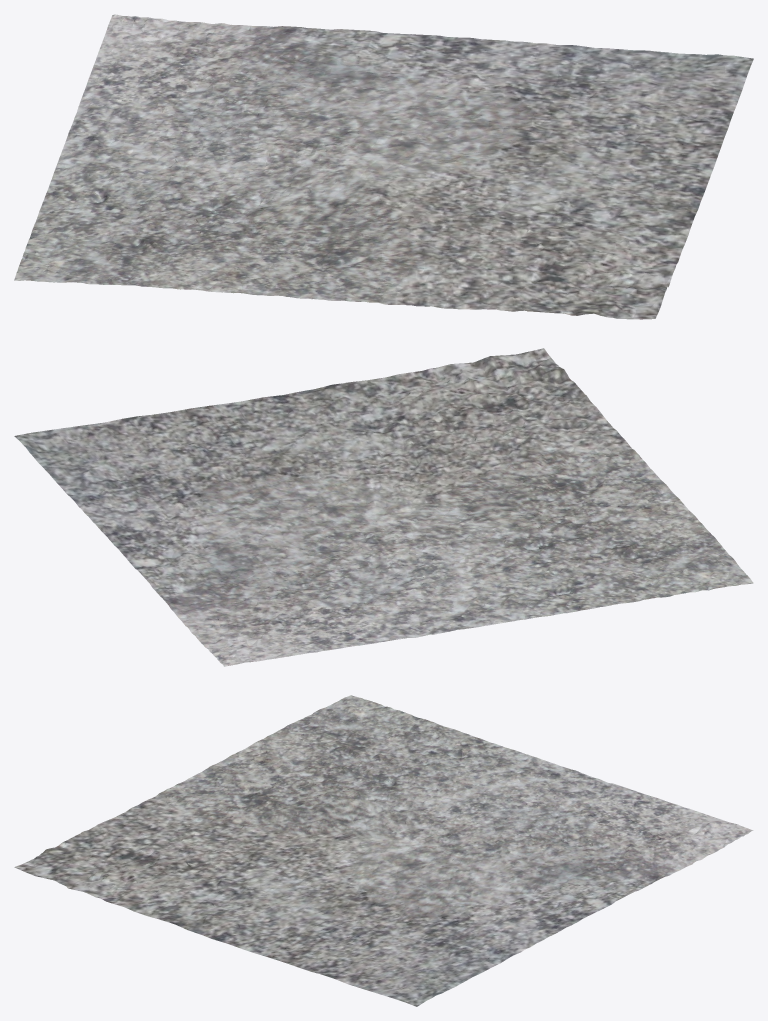
File: tile_3_1.obj
The picture shows the model from 3 angles, top to bottom: view 1: azimuth 30°, elevation 25°; view 2: azimuth 150°, elevation 25°; view 3: azimuth 270°, elevation 25°; orthographic projection. The views are drawn at different scales.
Visible parts, largest first — view 1: texture_0; view 2: texture_0; view 3: texture_0.
Boxes of the visible parts, x1=… form: texture_0: x1=14, y1=14, x2=753, y2=319; texture_0: x1=14, y1=348, x2=753, y2=666; texture_0: x1=14, y1=695, x2=753, y2=1006.
Bounding box in the file's own units: 0.508 × 0.00551 × 0.5062.
1 material, 1 textured.
